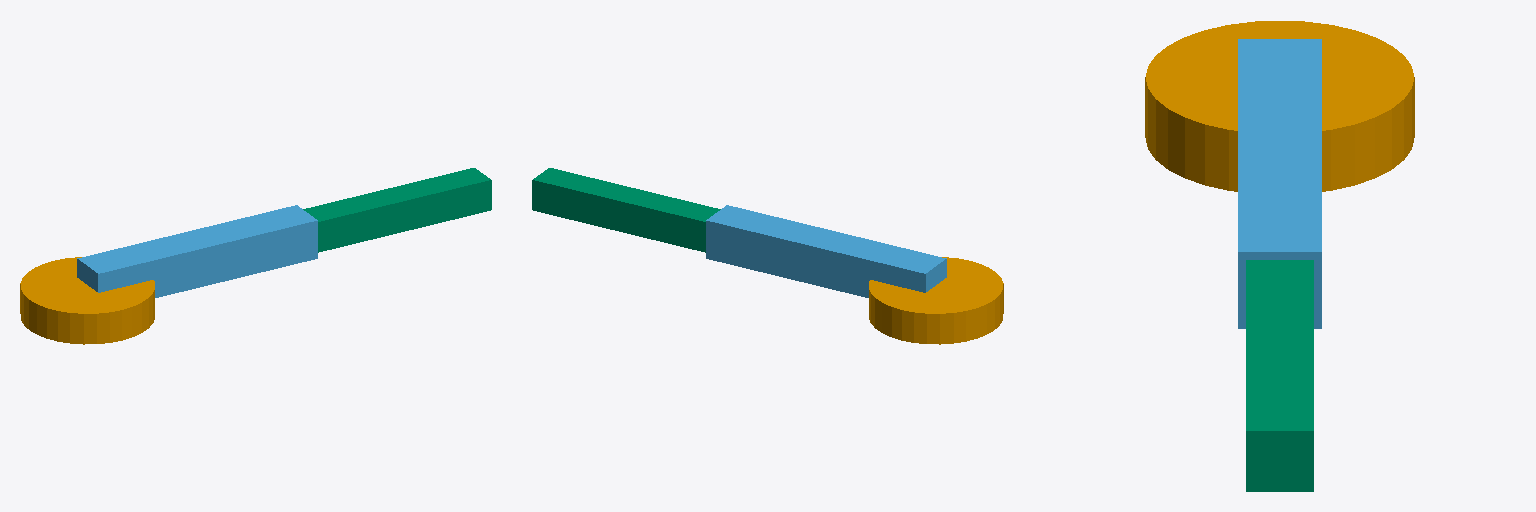
URDF robot description (arm2):
<?xml version="1.0"?>
<robot name="arm2">
  <link name="base">
    <visual>
      <origin xyz="0 0 0.1" rpy="0 0 0"/>
      <geometry><cylinder radius="0.4" length="0.2"/></geometry>
    </visual>
  </link>
  <link name="link1">
    <visual>
      <origin xyz="0.75 0 0" rpy="0 0 0"/>
      <geometry><box size="1.5 0.25 0.25"/></geometry>
    </visual>
  </link>
  <link name="link2">
    <visual>
      <origin xyz="0.6 0 0" rpy="0 0 0"/>
      <geometry><box size="1.2 0.2 0.2"/></geometry>
    </visual>
  </link>
  <joint name="j1" type="revolute">
    <parent link="base"/>
    <child link="link1"/>
    <origin xyz="0 0 0.2" rpy="0 0 0"/>
    <axis xyz="0 0 1"/>
  </joint>
  <joint name="j2" type="revolute">
    <parent link="link1"/>
    <child link="link2"/>
    <origin xyz="1.5 0 0" rpy="0 0 0"/>
    <axis xyz="0 0 1"/>
  </joint>
</robot>

--- What the picture shows (computed from the rendered views, not written in the file) ---
The picture shows the robot from 3 angles, left to right: view 1: azimuth 30°, elevation 25°; view 2: azimuth 150°, elevation 25°; view 3: azimuth 270°, elevation 25°; orthographic projection.
Robot: arm2 — 3 links, 2 joints (2 revolute); root link base; default pose: all joints at 0.
Visible links, largest first — view 1: link1, base, link2; view 2: link1, base, link2; view 3: base, link1, link2.
Boxes of the visible links, bbox=[...] form: link1: bbox=[77, 205, 317, 297]; base: bbox=[20, 257, 154, 344]; link2: bbox=[303, 168, 491, 252]; link1: bbox=[706, 205, 946, 297]; base: bbox=[869, 257, 1003, 344]; link2: bbox=[532, 168, 720, 252]; base: bbox=[1145, 21, 1414, 191]; link1: bbox=[1238, 39, 1321, 328]; link2: bbox=[1246, 260, 1313, 491].
Bounding box of the posed robot: 3.1 × 0.8 × 0.325 m (x, y, z).
Geometry: primitives only (box / cylinder / sphere), no mesh files.
